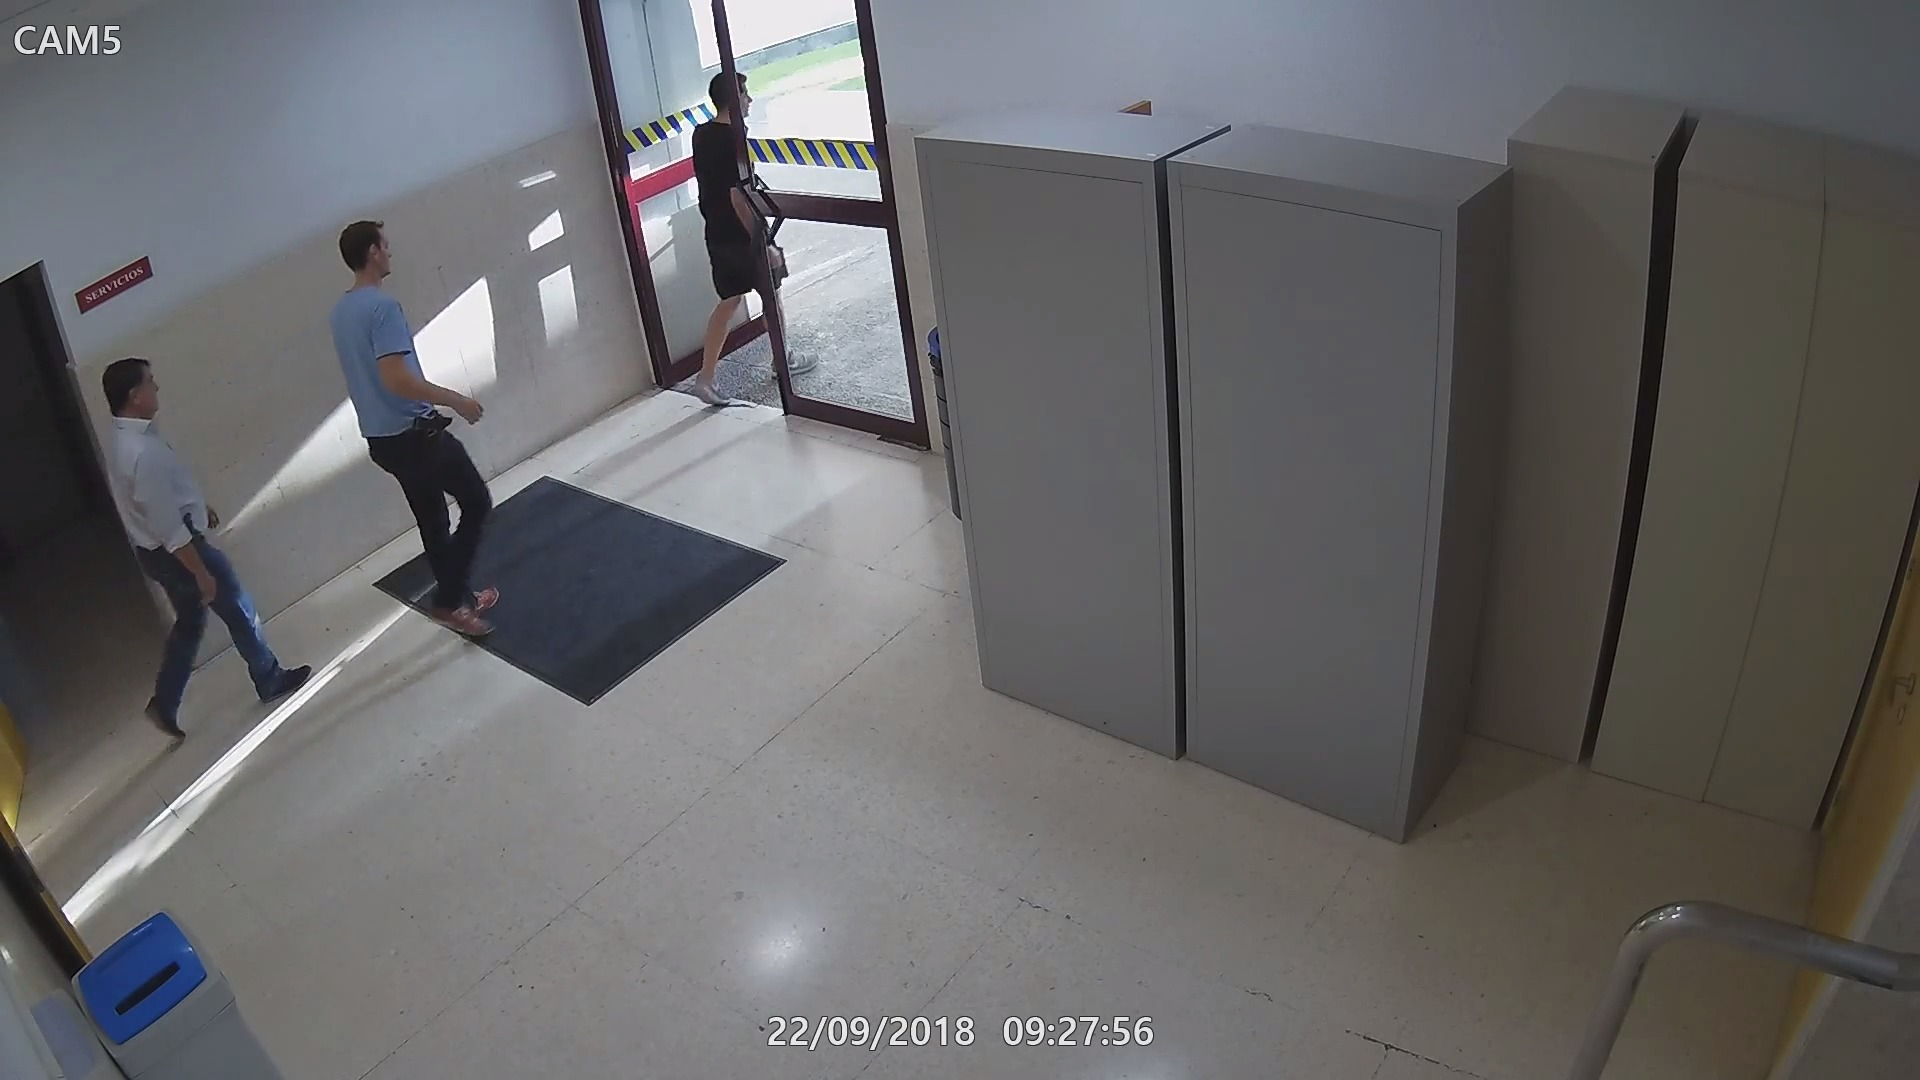Handgun: (411, 413, 452, 463), (767, 240, 794, 281), (177, 512, 204, 541)
